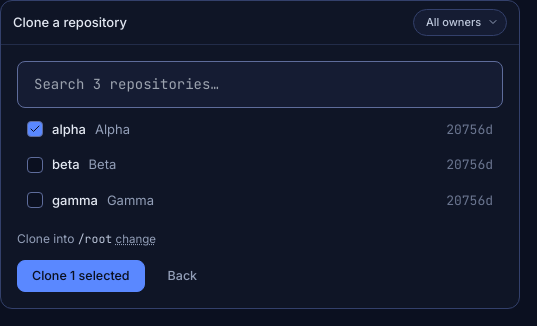
Scenario: CloneFromGitHub picker › falls back to the generic start failure when the server returns no message (BET-1073)
This screenshot has width=537, height=326.
Click the button "Clone 1 selected".
click(81, 276)  # box left=17, top=260, right=145, bottom=292
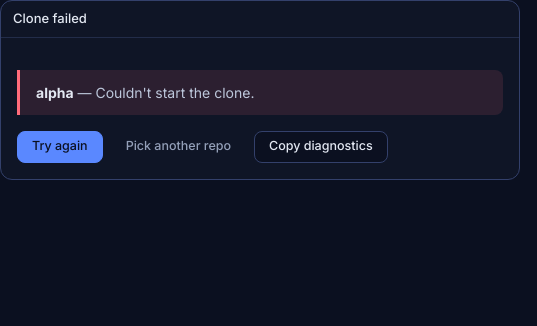
Expected: the text "Couldn't start the clone." is shown, left=96, top=84, right=254, bottom=100
